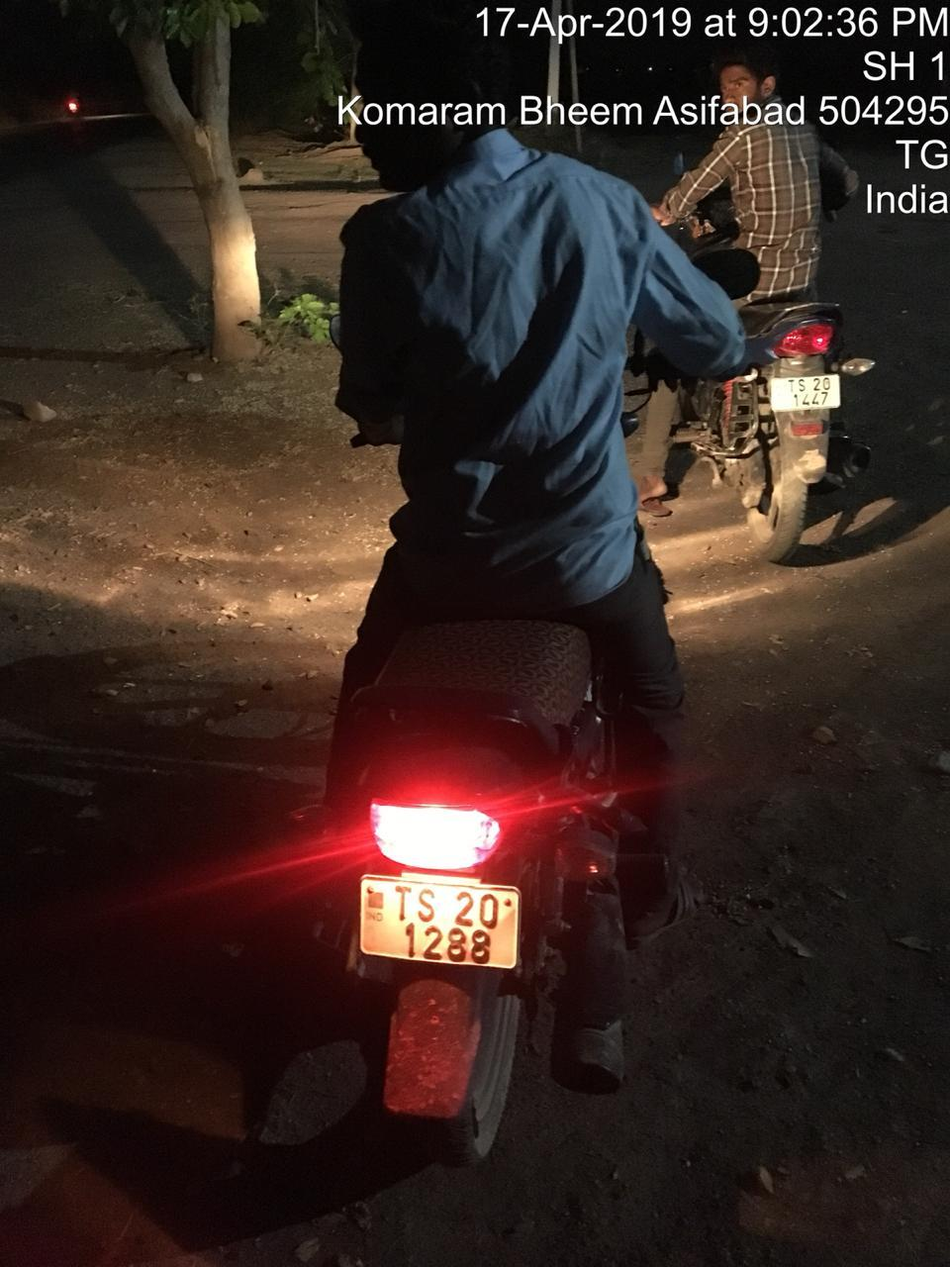plate: (341, 863, 545, 988), (744, 364, 860, 425)
